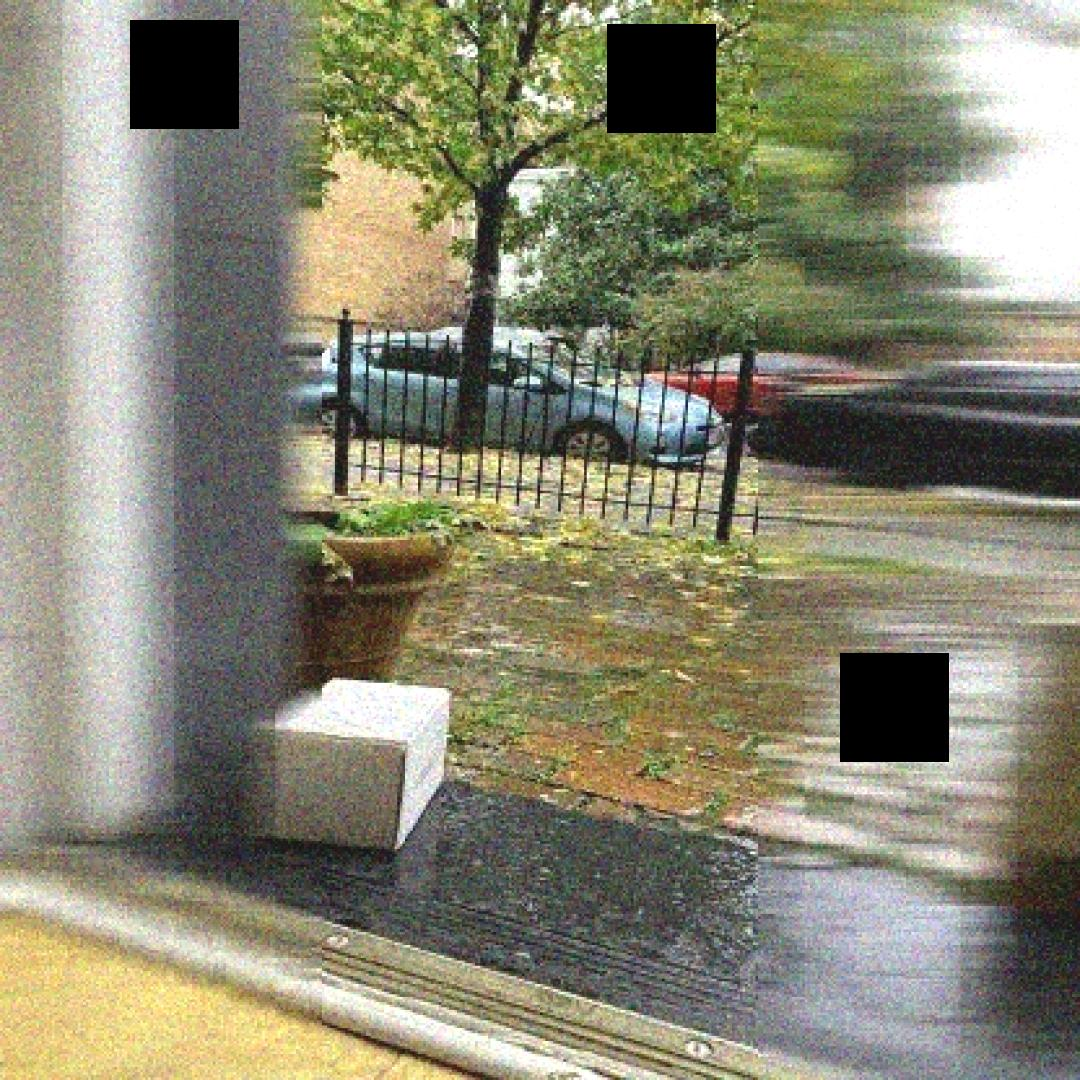package: (237, 672, 468, 860)
